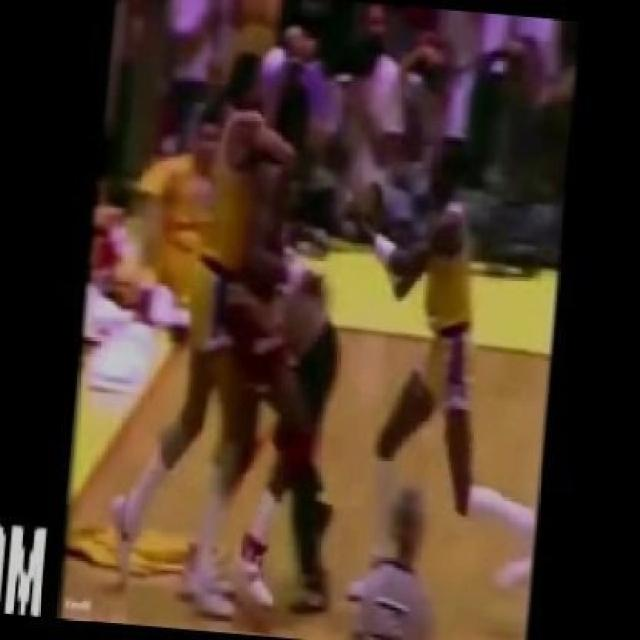fight: (106, 101, 345, 623)
non-fight: (348, 128, 542, 591)
